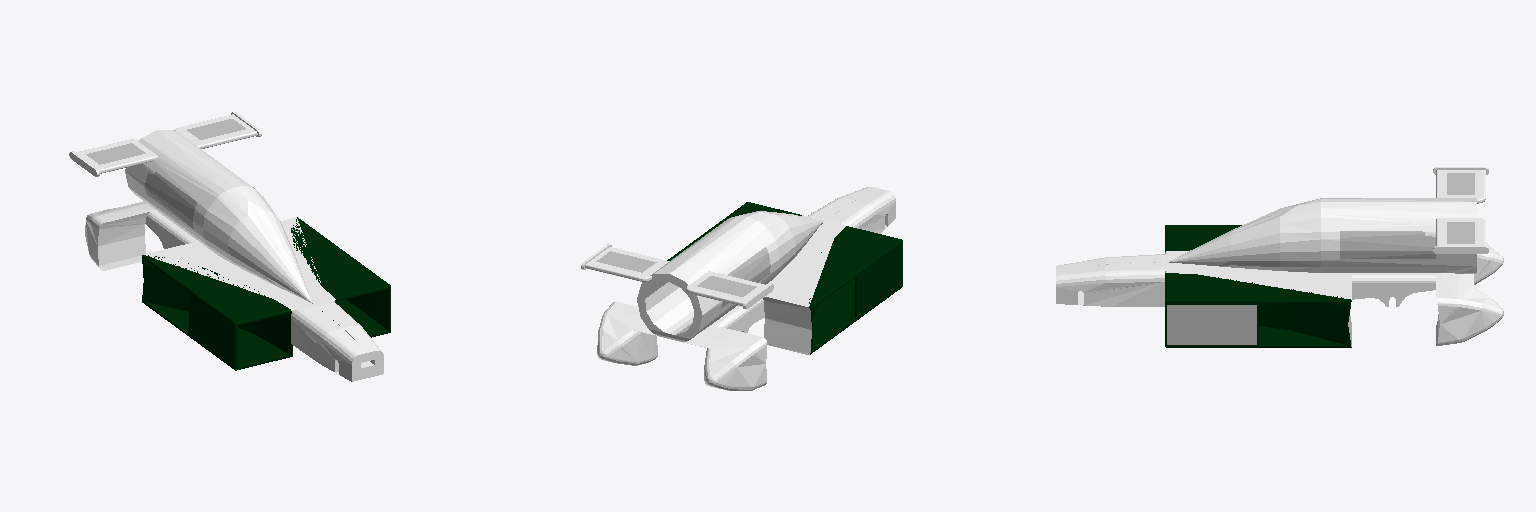
File: Chassis.obj
3 views of the same model, side by side, from view 1: azimuth 30°, elevation 25°; view 2: azimuth 150°, elevation 25°; view 3: azimuth 270°, elevation 25° (orthographic).
Visible parts, largest first — view 1: Sauer_4.7.1_Marleen_Sauer_4.7.1_Marleen.001, PumaTransparentBackground, PumaTransparentBackground.001_PumaTransparentBackground.002; view 2: Sauer_4.7.1_Marleen_Sauer_4.7.1_Marleen.001, PumaTransparentBackground, PumaTransparentBackground.001_PumaTransparentBackground.002; view 3: Sauer_4.7.1_Marleen_Sauer_4.7.1_Marleen.001, Startnummer_11_Startnummer_11.002, PumaTransparentBackground, PumaTransparentBackground.001_PumaTransparentBackground.002.
Boxes of the visible parts, x1,y1,x2,y2 form: Sauer_4.7.1_Marleen_Sauer_4.7.1_Marleen.001: [69, 112, 390, 381]; PumaTransparentBackground: [187, 119, 245, 139]; PumaTransparentBackground.001_PumaTransparentBackground.002: [86, 143, 145, 164]; Sauer_4.7.1_Marleen_Sauer_4.7.1_Marleen.001: [581, 187, 902, 390]; PumaTransparentBackground: [596, 251, 656, 272]; PumaTransparentBackground.001_PumaTransparentBackground.002: [697, 276, 756, 296]; Sauer_4.7.1_Marleen_Sauer_4.7.1_Marleen.001: [1056, 167, 1503, 347]; Startnummer_11_Startnummer_11.002: [1167, 305, 1256, 344]; PumaTransparentBackground: [1447, 222, 1474, 243]; PumaTransparentBackground.001_PumaTransparentBackground.002: [1447, 173, 1474, 194].
Size of the model in its own units: 0.8203 by 0.5166 by 1.93.